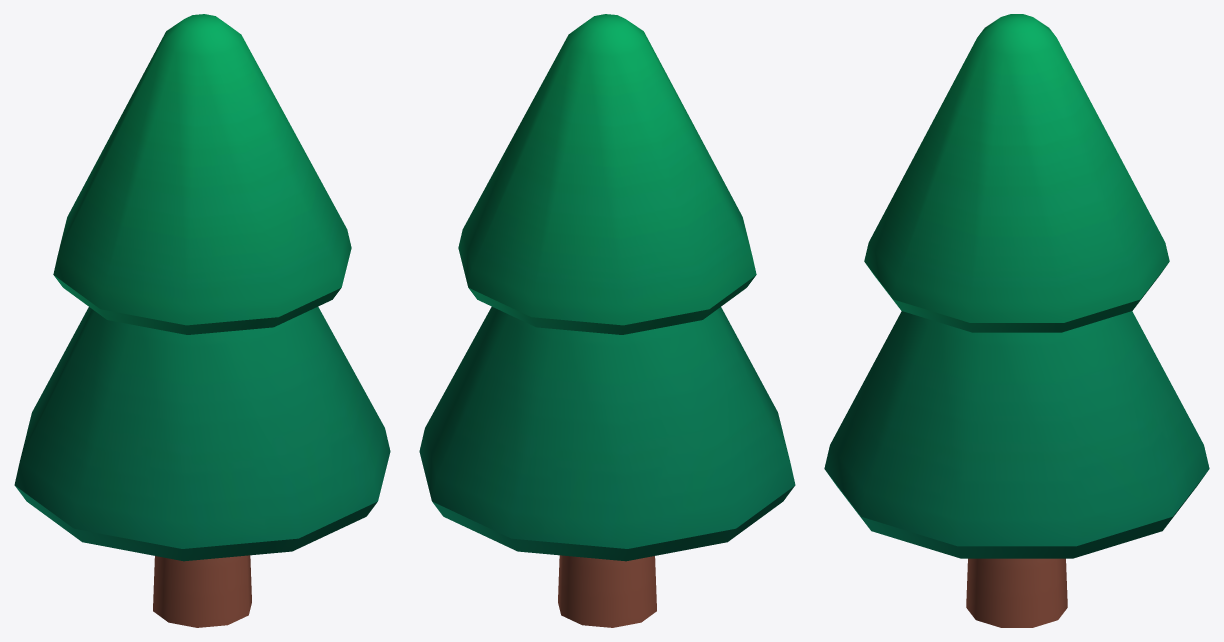
File: tree-b.glb
The picture shows the model from 3 angles, left to right: view 1: azimuth 30°, elevation 25°; view 2: azimuth 150°, elevation 25°; view 3: azimuth 270°, elevation 25°; orthographic projection.
Visible parts, largest first — view 1: tree_single_B; view 2: tree_single_B; view 3: tree_single_B.
Boxes of the visible parts, box(x1,y1,x2,y2) form: tree_single_B: box(14, 14, 390, 627); tree_single_B: box(419, 14, 795, 627); tree_single_B: box(824, 14, 1209, 627).
Size of the model in its own units: 0.6849 by 1.21 by 0.7201.
1 material, 1 textured.
